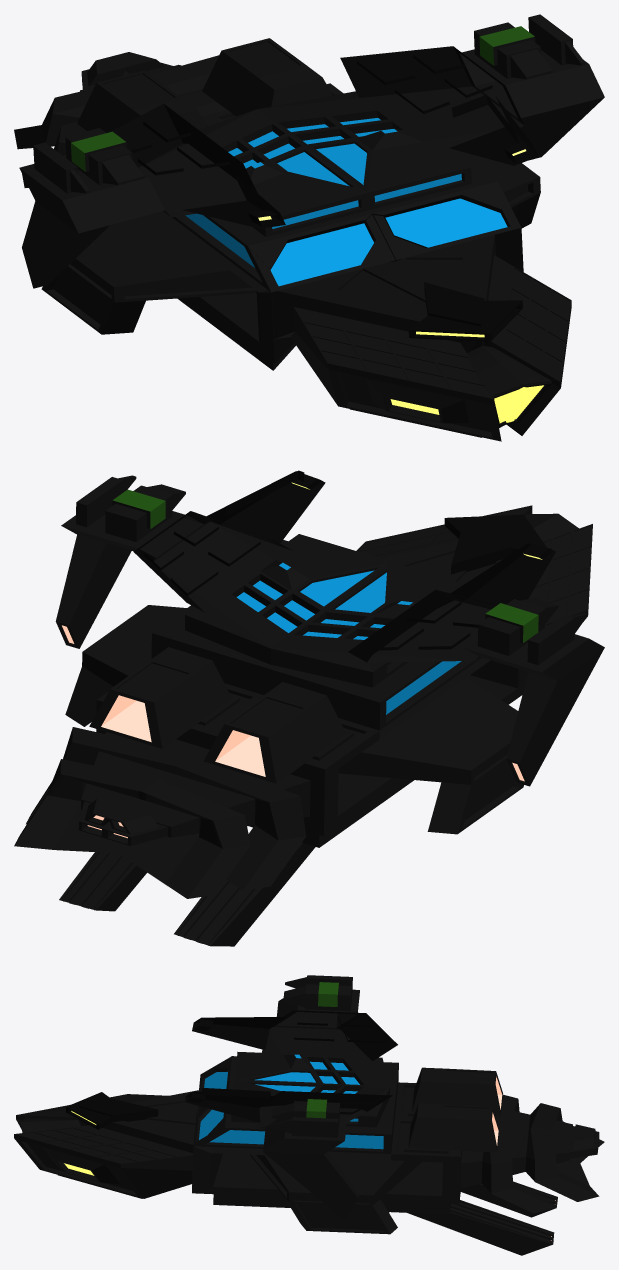
File: uploads_files_3775662_space+battleship+lowpoly.fbx
3 renders of one model, top to bottom at view 1: azimuth 30°, elevation 25°; view 2: azimuth 150°, elevation 25°; view 3: azimuth 270°, elevation 25°, orthographic. The views are drawn at different scales.
Parts seen in each view (by area): view 1: Cube; view 2: Cube; view 3: Cube.
Boxes of the visible parts, box(x1,y1,x2,y2) form: Cube: box(14, 14, 604, 441); Cube: box(14, 470, 604, 946); Cube: box(14, 975, 604, 1255).
Bounding box in the file's own units: 1520 × 802 × 2306.
